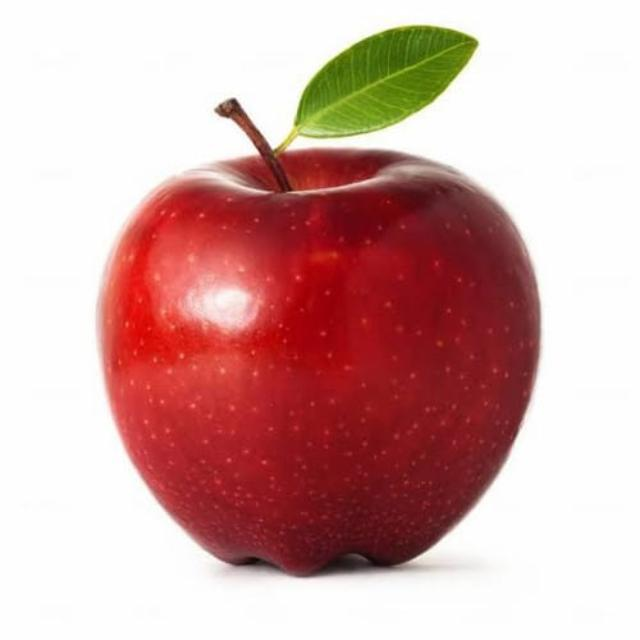Apel Segar: (61, 110, 601, 586)
